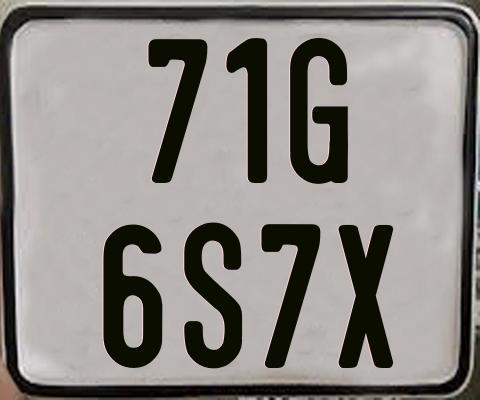1: (223, 38, 270, 183)
6: (101, 223, 162, 367)
7: (148, 37, 211, 185), (258, 223, 320, 368)
G: (287, 35, 348, 182)
S: (181, 220, 244, 371)
X: (336, 224, 392, 372)
